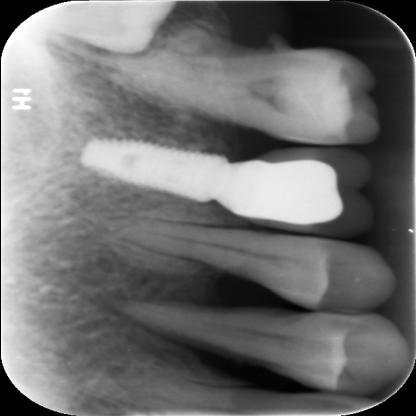ITI: (71, 135, 224, 210)
